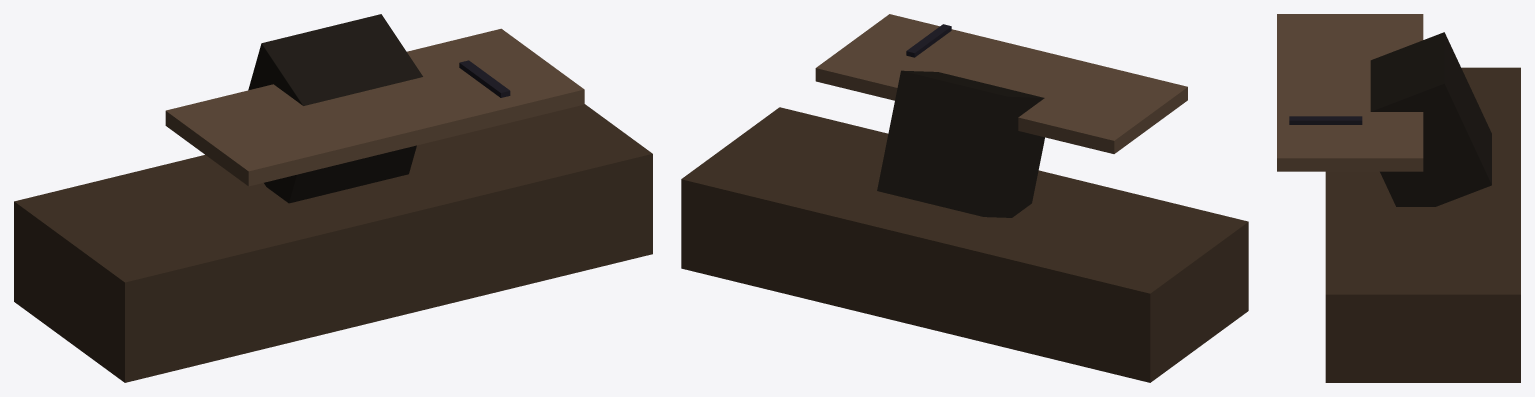
File: s3_quarters_bunk.glb
3 views of the same model, side by side, from view 1: azimuth 30°, elevation 25°; view 2: azimuth 150°, elevation 25°; view 3: azimuth 270°, elevation 25° (orthographic). The views are drawn at different scales.
Parts seen in each view (by area): view 1: s3_quarters_bunk; view 2: s3_quarters_bunk; view 3: s3_quarters_bunk.
Boxes of the visible parts, x1=… form: s3_quarters_bunk: x1=14, y1=14, x2=652, y2=382; s3_quarters_bunk: x1=681, y1=14, x2=1248, y2=382; s3_quarters_bunk: x1=1277, y1=14, x2=1520, y2=382.
Size of the model in its own units: 2.2 by 0.9581 by 1.
